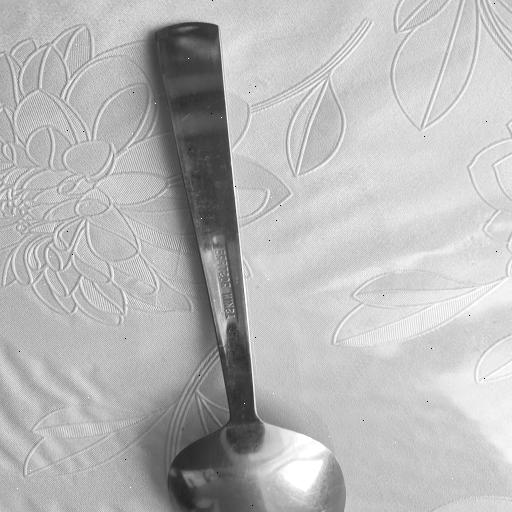spoon: (153, 21, 347, 512)
